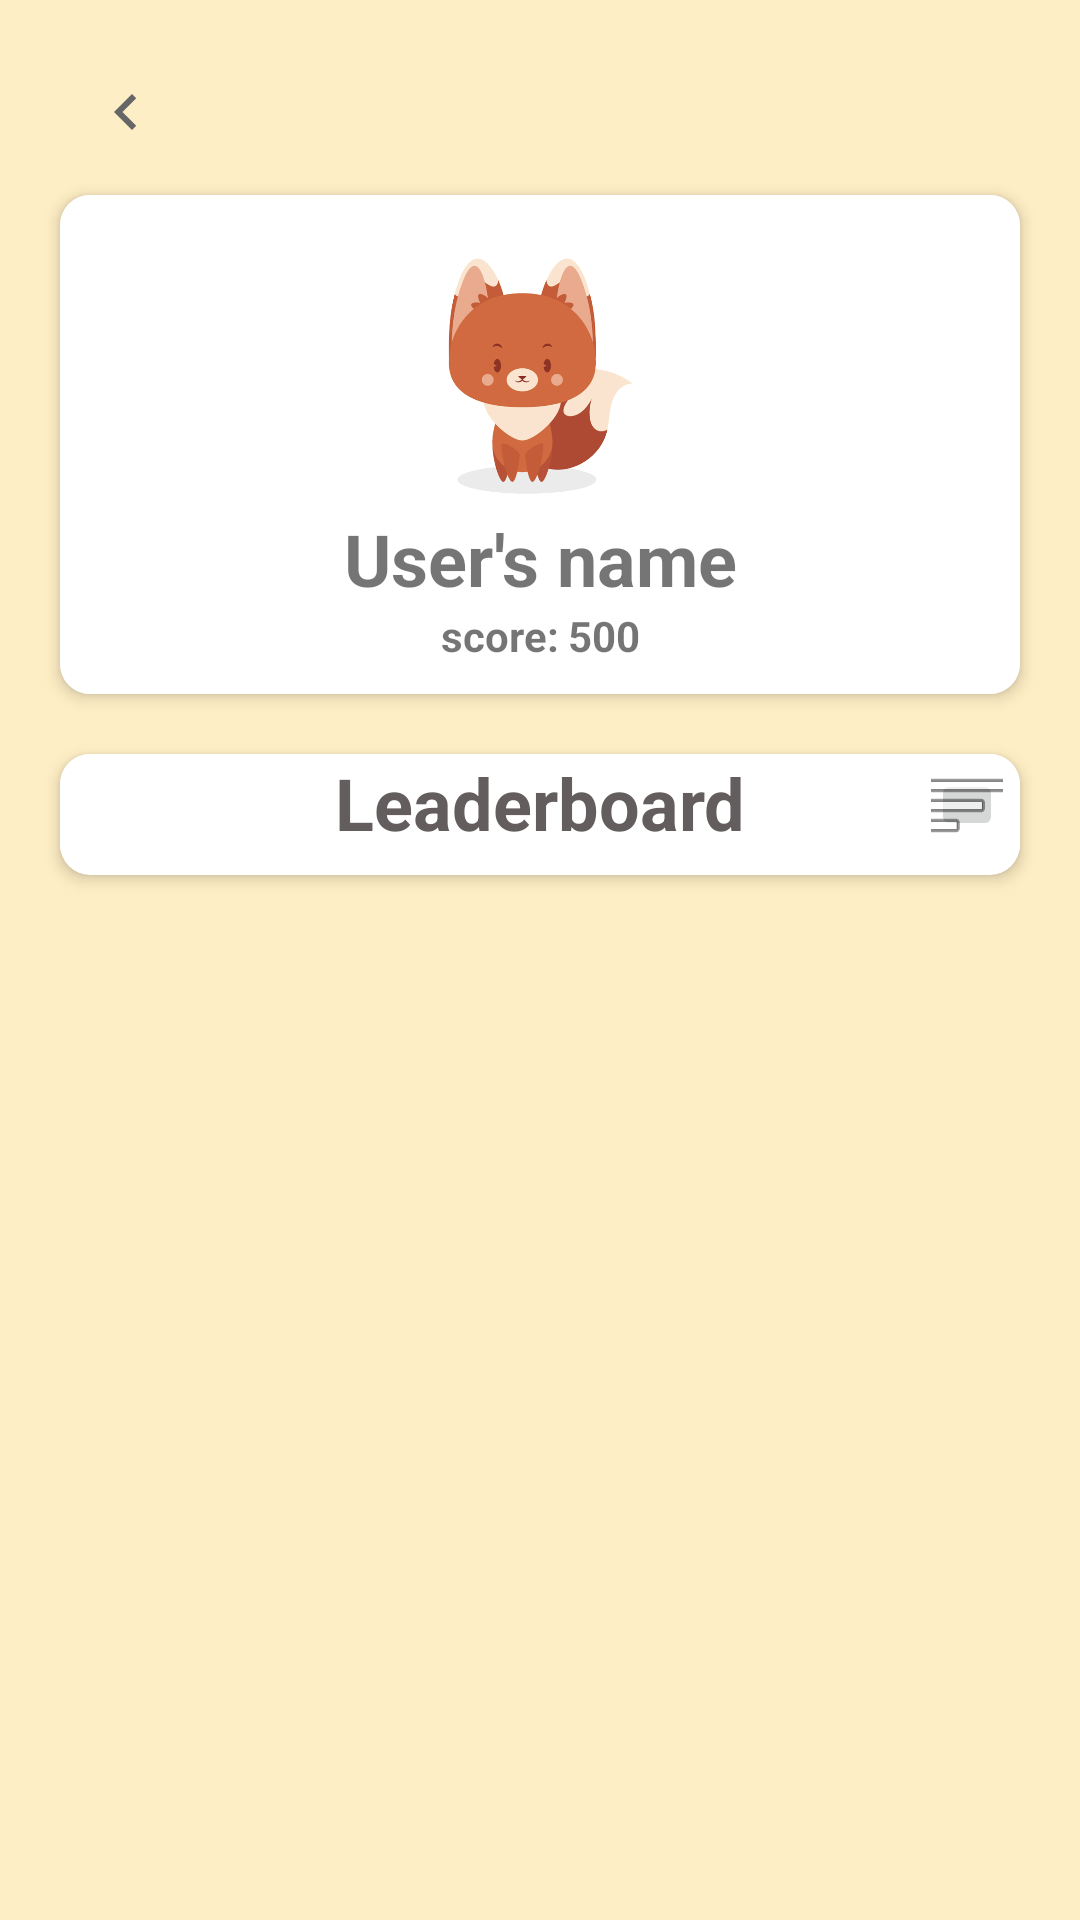

Screen size 1080*1920. Icon name, then its box in pixels as detection(x1, y1, x2, y2):
fox: detection(449, 259, 631, 482)
sort by size: detection(931, 779, 1003, 832)
